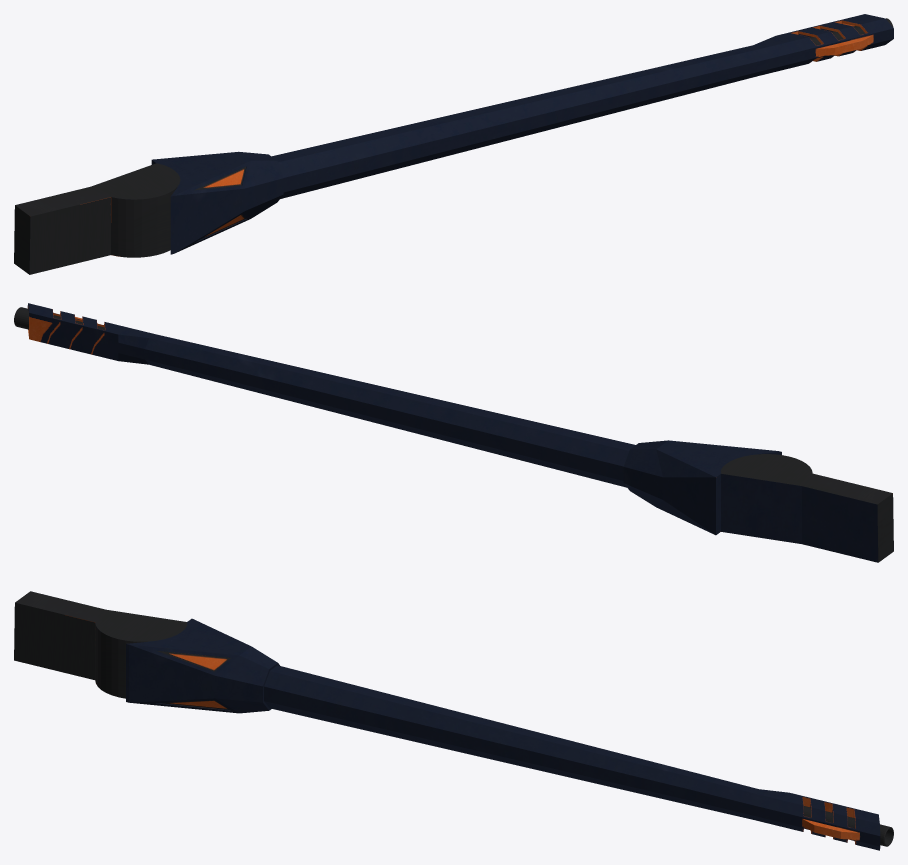
File: Gun.glb
3 renders of one model, top to bottom at view 1: azimuth 30°, elevation 25°; view 2: azimuth 150°, elevation 25°; view 3: azimuth 330°, elevation 25°, orthographic.
Visible parts, largest first — view 1: Gun.007; view 2: Gun.007; view 3: Gun.007.
Boxes of the visible parts, bbox=[...] form: Gun.007: bbox=[14, 14, 893, 274]; Gun.007: bbox=[14, 303, 893, 562]; Gun.007: bbox=[14, 591, 893, 850].
Size of the model in its own units: 0.8423 by 0.0539 by 0.0717.
Materials: 1 (1 with a texture image).
